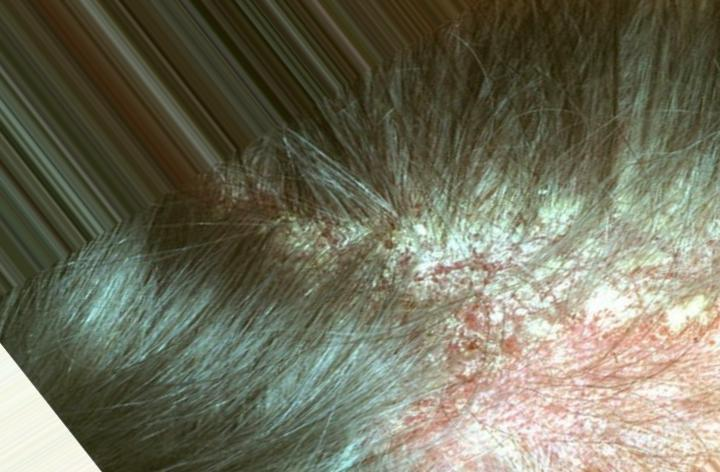Contact Dermatitis: (334, 150, 670, 441)
